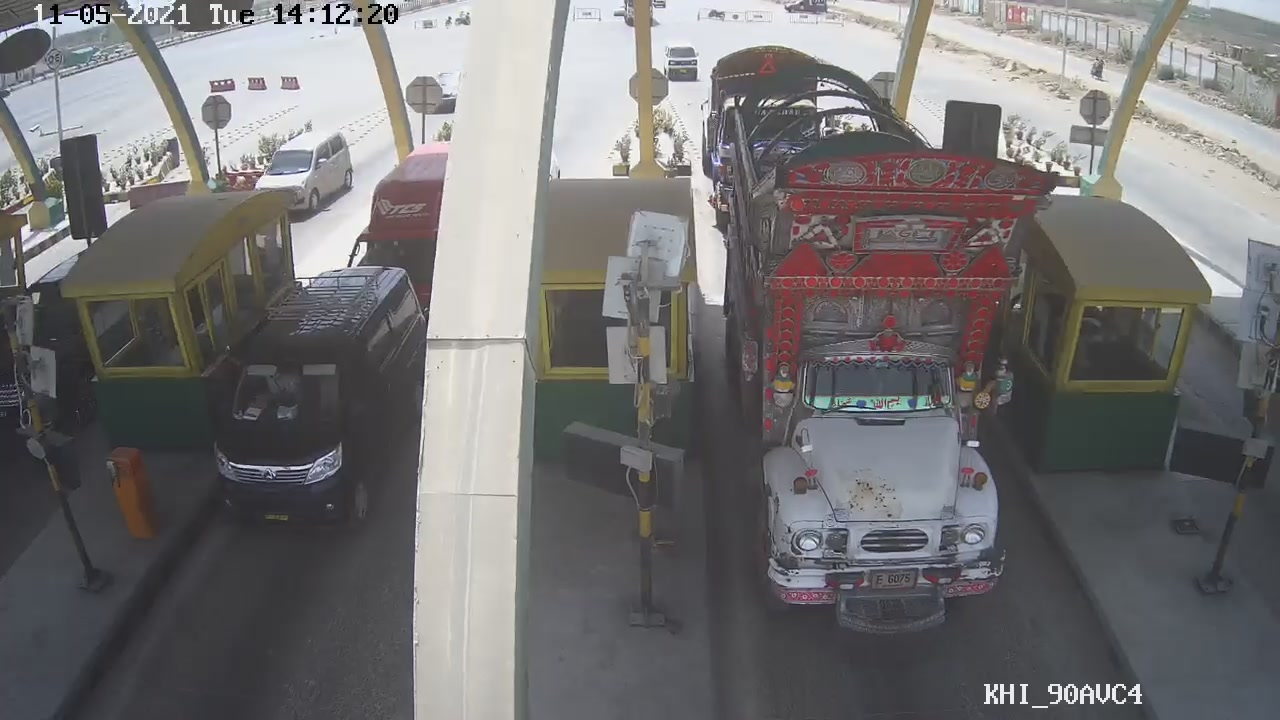F5: (693, 117, 1066, 639)
